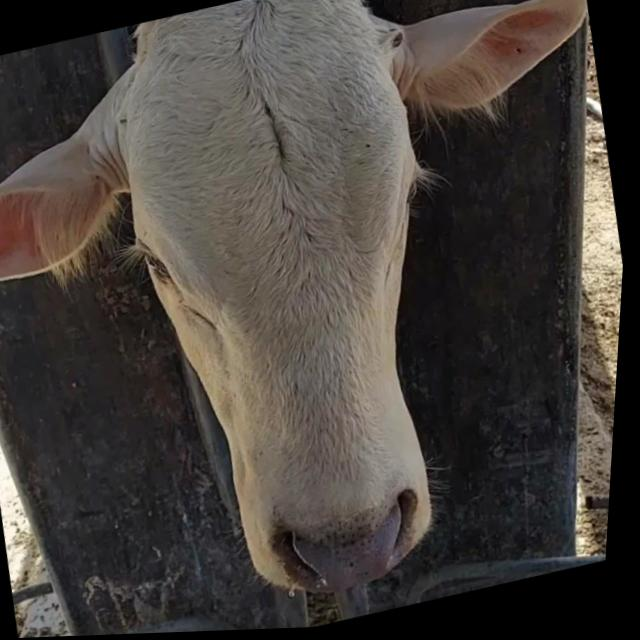cowFace: (74, 0, 509, 635)
